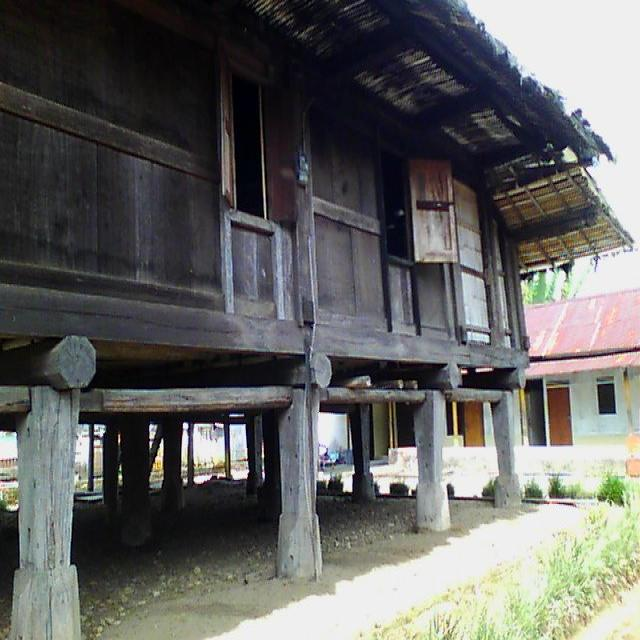Atap: (206, 1, 635, 277)
